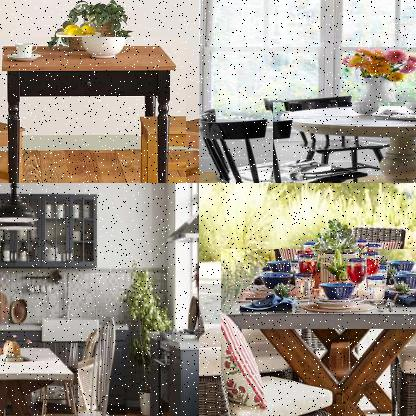table: (219, 249, 415, 415), (0, 37, 186, 182), (272, 101, 415, 182), (0, 343, 79, 415)
